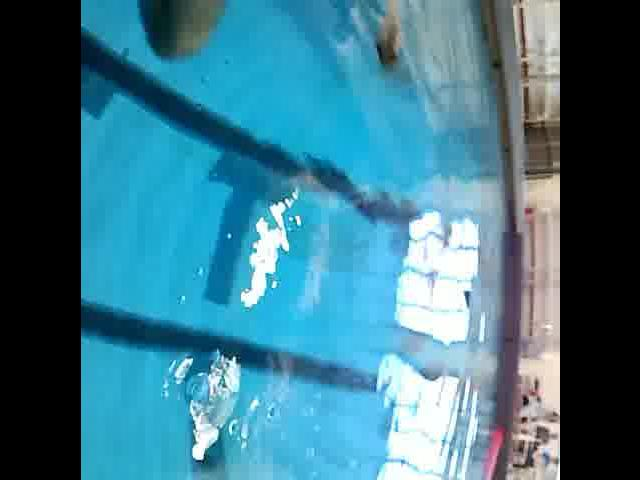CamMount: (458, 286, 474, 312)
